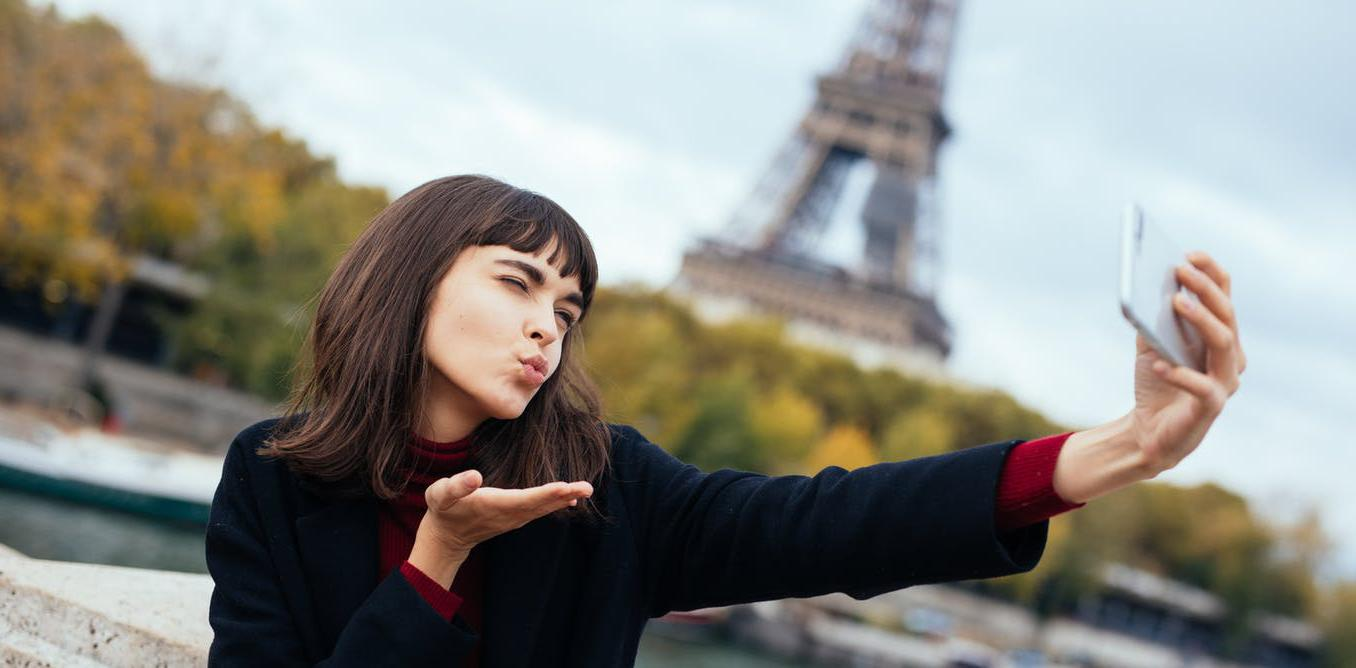face: (420, 228, 582, 420)
